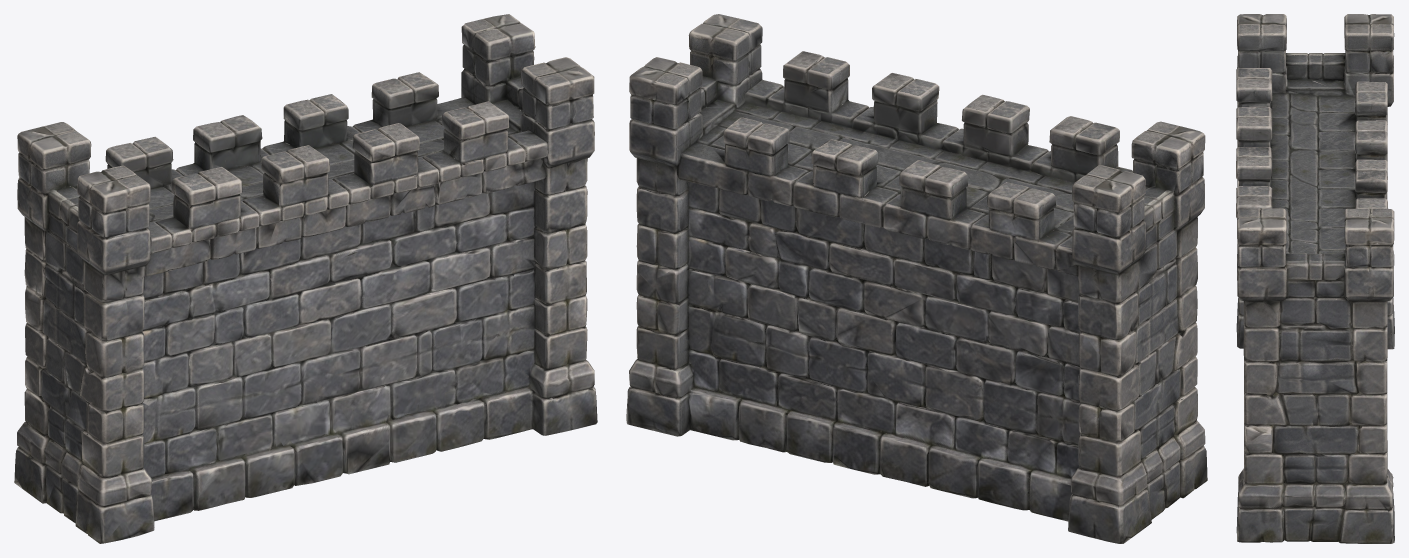
File: fort_m_arctic_wall.glb
3 renders of one model, left to right at view 1: azimuth 30°, elevation 25°; view 2: azimuth 150°, elevation 25°; view 3: azimuth 270°, elevation 25°, orthographic. The views are drawn at different scales.
Visible parts, largest first — view 1: fort_m_arctic_wall; view 2: fort_m_arctic_wall; view 3: fort_m_arctic_wall.
Boxes of the visible parts, x1=… form: fort_m_arctic_wall: x1=14, y1=14, x2=597, y2=543; fort_m_arctic_wall: x1=626, y1=14, x2=1207, y2=543; fort_m_arctic_wall: x1=1236, y1=14, x2=1394, y2=543.
Size of the model in its own units: 1.9 by 1.28 by 0.5843.
1 material, 1 textured.
